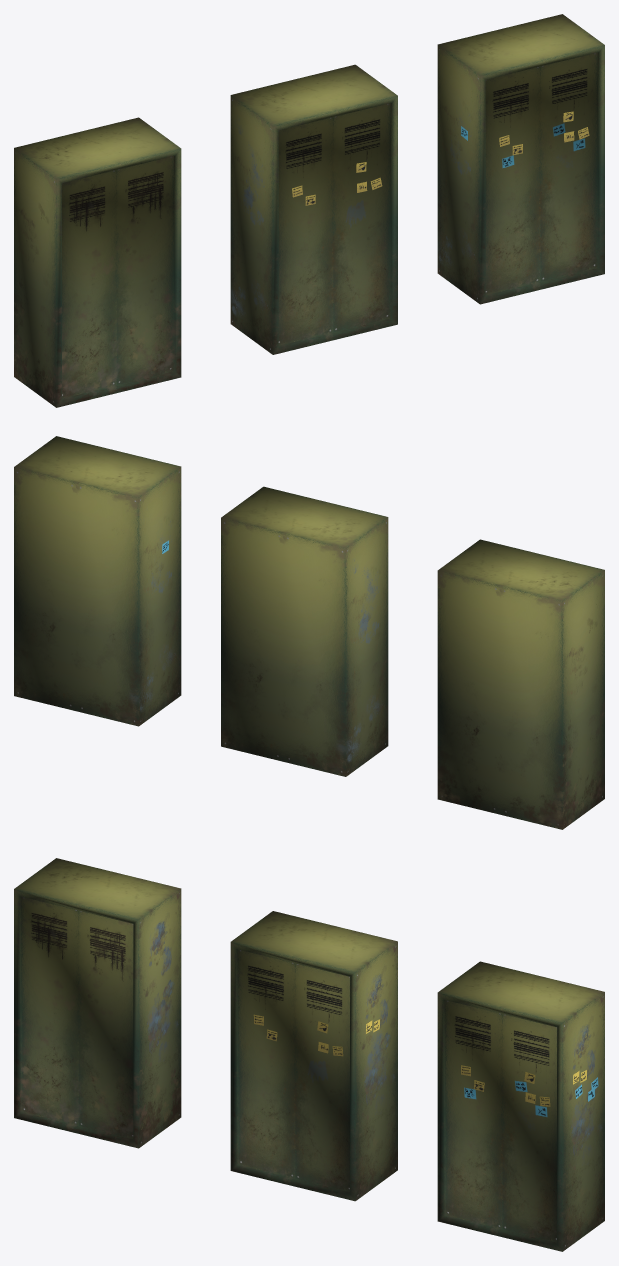
Rendered from metal_cabinets_with_text.fbx.
3 views of the same model, one above another, from view 1: azimuth 30°, elevation 25°; view 2: azimuth 150°, elevation 25°; view 3: azimuth 330°, elevation 25° (orthographic).
Parts seen in each view (by area): view 1: cabinet1_mesh, cabinet3_mesh, cabinet2_mesh; view 2: cabinet1_mesh, cabinet3_mesh, cabinet2_mesh; view 3: cabinet1_mesh, cabinet3_mesh, cabinet2_mesh.
Part boxes in pixels (x1,y1,x2,y2): cabinet1_mesh: (14,117,181,407); cabinet3_mesh: (437,14,604,304); cabinet2_mesh: (230,64,397,354); cabinet1_mesh: (437,539,604,829); cabinet3_mesh: (14,436,181,726); cabinet2_mesh: (221,486,388,776); cabinet1_mesh: (14,858,181,1148); cabinet3_mesh: (437,961,604,1251); cabinet2_mesh: (230,911,397,1201).
Size of the model in its own units: 558 by 223 by 74.69.
